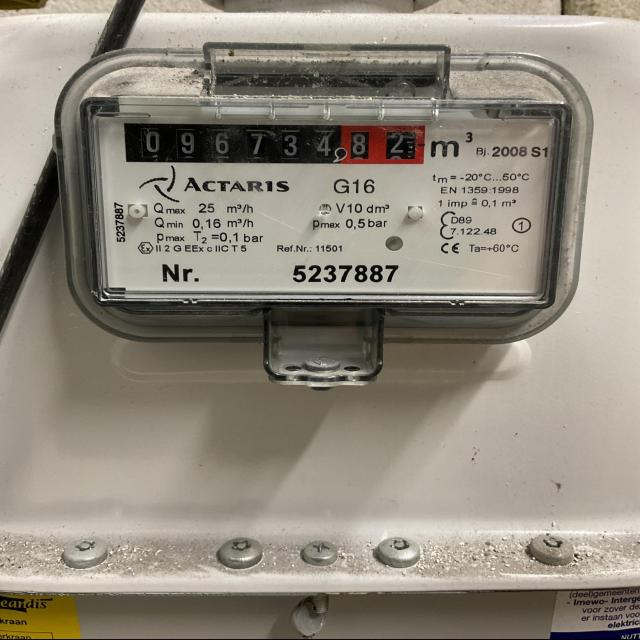gaz_meter: (86, 94, 555, 304)
indication: (123, 121, 427, 166)
